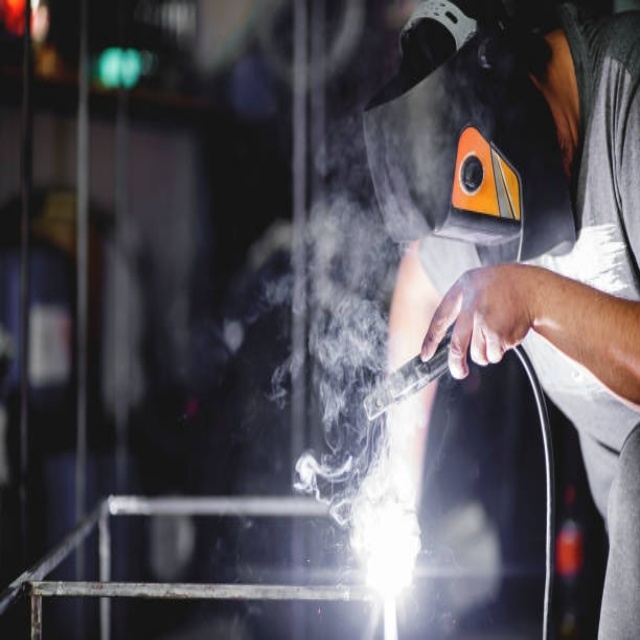Sin_guantes: (422, 261, 537, 378)
